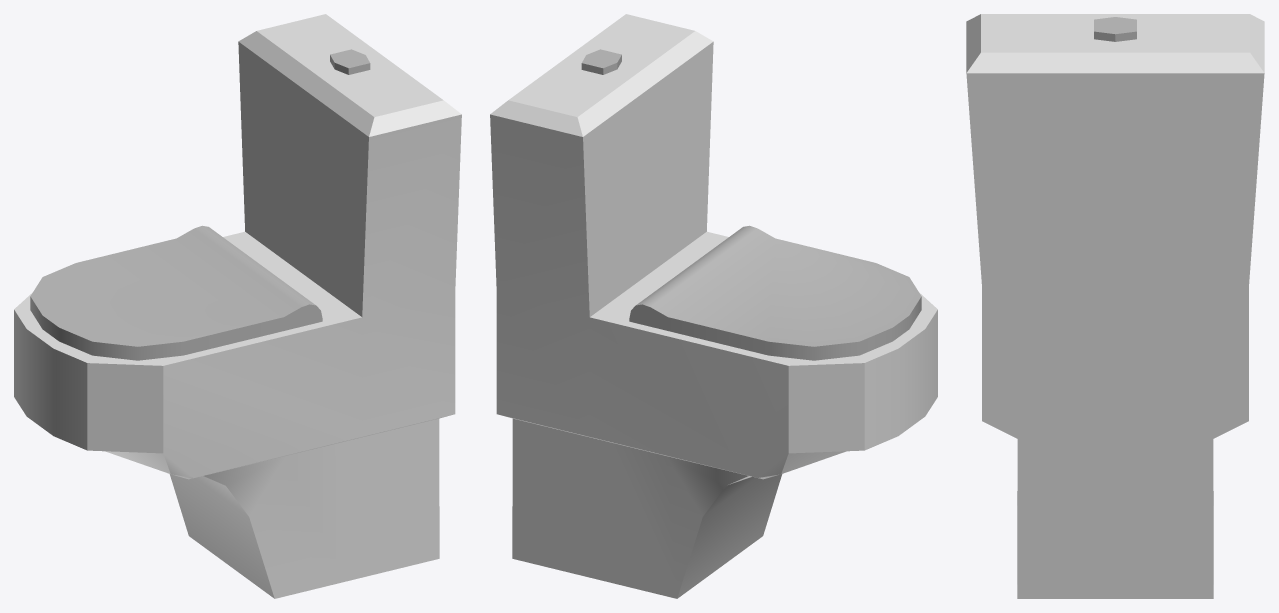
The model's file is Klozet.fbx.
3 views of the same model, side by side, from view 1: azimuth 30°, elevation 25°; view 2: azimuth 150°, elevation 25°; view 3: azimuth 270°, elevation 25° (orthographic). The views are drawn at different scales.
Visible parts, largest first — view 1: Cube; view 2: Cube; view 3: Cube.
Boxes of the visible parts, bbox=[...] form: Cube: bbox=[14, 14, 461, 598]; Cube: bbox=[490, 14, 937, 598]; Cube: bbox=[966, 14, 1264, 598].
Size of the model in its own units: 138 by 178 by 87.85.
